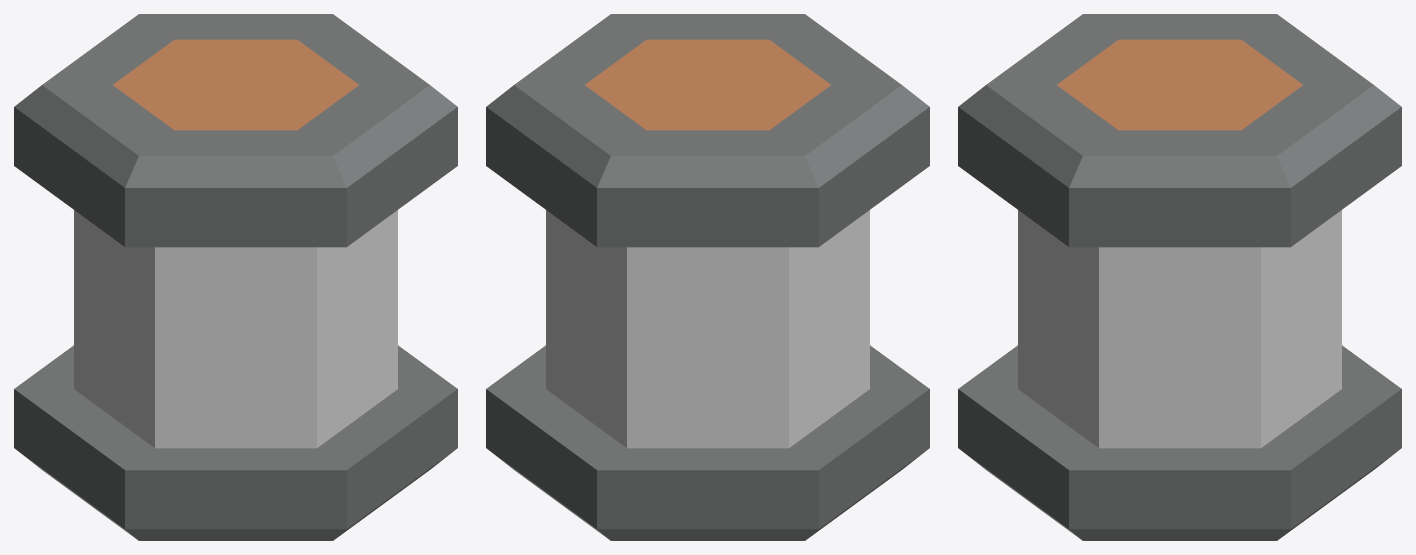
Rendered from Alarme.fbx.
The picture shows the model from 3 angles, left to right: view 1: azimuth 30°, elevation 25°; view 2: azimuth 150°, elevation 25°; view 3: azimuth 270°, elevation 25°; orthographic projection.
Parts seen in each view (by area): view 1: Alarme, AlarmeVidro; view 2: Alarme, AlarmeVidro; view 3: Alarme, AlarmeVidro.
Part boxes in pixels (x1=…): Alarme: x1=14, y1=14, x2=457, y2=540; AlarmeVidro: x1=74, y1=210, x2=397, y2=448; Alarme: x1=486, y1=14, x2=929, y2=540; AlarmeVidro: x1=546, y1=210, x2=869, y2=448; Alarme: x1=958, y1=14, x2=1401, y2=540; AlarmeVidro: x1=1018, y1=210, x2=1341, y2=448.
Size of the model in its own units: 24.42 by 26.99 by 28.19.
